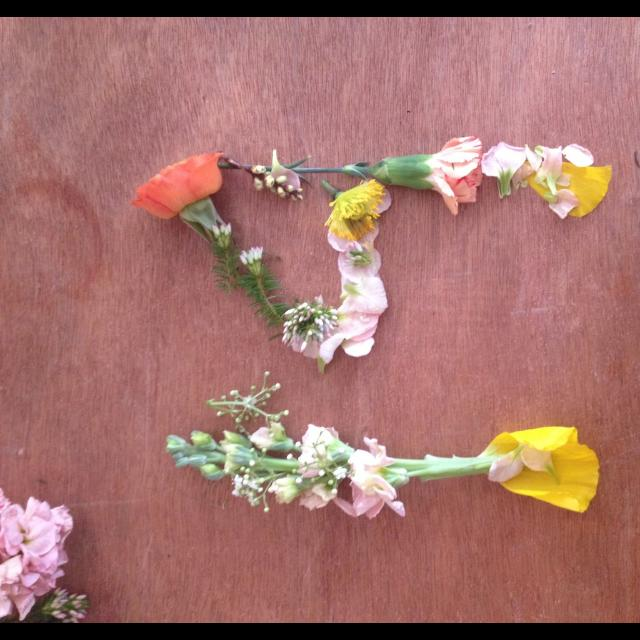Flower: (347, 138, 487, 216), (488, 426, 604, 512), (128, 154, 224, 232), (2, 502, 74, 598)
